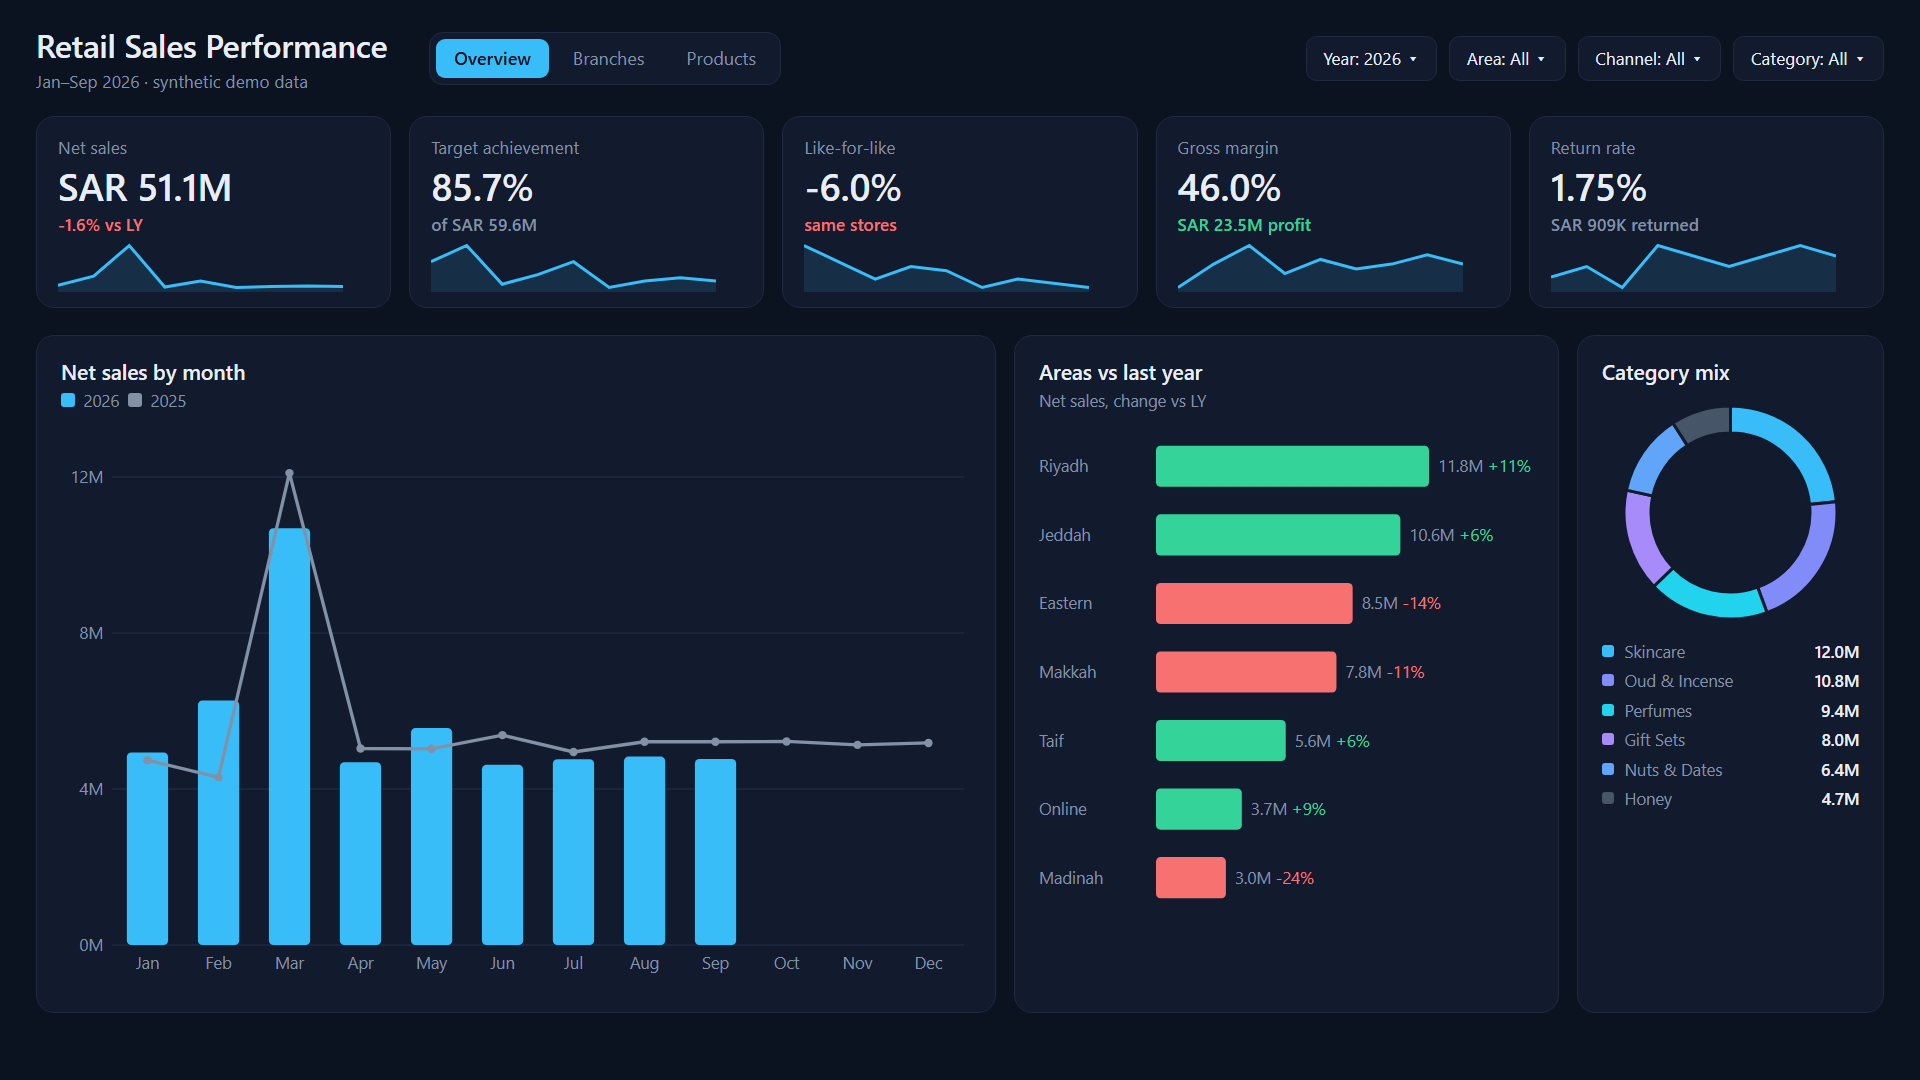

Layout of this report page (visuals, bound fields, positions):
{"tool":"powerbi","page":{"name":"Overview","canvas":[1280,720],"ordinal":0},"visuals":[{"type":"shape","box":[0,0,1280,62],"z":0},{"type":"shape","box":[24,14,34,34],"z":1},{"type":"textbox","box":[24,13,34,36],"z":2},{"type":"textbox","box":[68,8,420,50],"z":3},{"type":"pageNavigator","box":[956,12,300,40],"z":4},{"type":"shape","box":[0,62,1280,58],"z":5},{"type":"shape","box":[0,119,1280,1],"z":6},{"type":"textbox","box":[18,76,70,30],"z":7},{"type":"slicer","fields":{"Values":["Date.Year"]},"box":[92,68,150,48],"z":10},{"type":"slicer","fields":{"Values":["Date.Month"]},"box":[254,68,150,48],"z":11},{"type":"slicer","fields":{"Values":["Branch.area"]},"box":[416,68,150,48],"z":12},{"type":"slicer","fields":{"Values":["Branch.channel"]},"box":[578,68,150,48],"z":13},{"type":"slicer","fields":{"Values":["Product.category"]},"box":[740,68,150,48],"z":14},{"type":"shape","box":[24,130,236.8,120],"z":100},{"type":"cardVisual","fields":{"Data":["_Measures.Net Sales"]},"box":[32,132,224.8,116],"z":101},{"type":"shape","box":[24,138,4,104],"z":102},{"type":"shape","box":[272.8,130,236.8,120],"z":103},{"type":"cardVisual","fields":{"Data":["_Measures.Target Achievement %"]},"box":[280.8,132,224.8,116],"z":104},{"type":"shape","box":[272.8,138,4,104],"z":105},{"type":"shape","box":[521.6,130,236.8,120],"z":106},{"type":"cardVisual","fields":{"Data":["_Measures.LFL %"]},"box":[529.6,132,224.8,116],"z":107},{"type":"shape","box":[521.6,138,4,104],"z":108},{"type":"shape","box":[770.4,130,236.8,120],"z":109},{"type":"cardVisual","fields":{"Data":["_Measures.Gross Margin %"]},"box":[778.4,132,224.8,116],"z":110},{"type":"shape","box":[770.4,138,4,104],"z":111},{"type":"shape","box":[1019.2,130,236.8,120],"z":112},{"type":"cardVisual","fields":{"Data":["_Measures.Return Rate %"]},"box":[1027.2,132,224.8,116],"z":113},{"type":"shape","box":[1019.2,138,4,104],"z":114},{"type":"lineClusteredColumnComboChart","fields":{"Category":["Date.Month"],"Y":["_Measures.Net Sales"],"Y2":["_Measures.Net Sales LY"]},"box":[24,262,700,442],"z":300},{"type":"tableEx","title":"Area performance","fields":{"Values":["Branch.area","_Measures.Net Sales","_Measures.vs LY Label"]},"box":[736,262,520,229],"z":301},{"type":"tableEx","title":"Categories","fields":{"Values":["Product.category","_Measures.Net Sales","_Measures.Gross Margin %"]},"box":[736,503,520,201],"z":302}]}

Visuals, with their boxes in screenshot pixels (x1, y1, x2, y2), scaled from the page's 1280x720 canvas onto the 1920x1080 screenshot:
shape: l=0, t=0, r=1919, b=93
shape: l=36, t=21, r=87, b=72
textbox: l=36, t=20, r=87, b=74
textbox: l=102, t=12, r=732, b=87
pageNavigator: l=1434, t=18, r=1884, b=78
shape: l=0, t=93, r=1919, b=180
shape: l=0, t=178, r=1919, b=180
textbox: l=27, t=114, r=132, b=159
slicer - Date.Year: l=138, t=102, r=363, b=174
slicer - Date.Month: l=381, t=102, r=606, b=174
slicer - Branch.area: l=624, t=102, r=849, b=174
slicer - Branch.channel: l=867, t=102, r=1092, b=174
slicer - Product.category: l=1110, t=102, r=1335, b=174
shape: l=36, t=195, r=391, b=375
cardVisual - _Measures.Net Sales: l=48, t=198, r=385, b=372
shape: l=36, t=207, r=42, b=363
shape: l=409, t=195, r=764, b=375
cardVisual - _Measures.Target Achievement %: l=421, t=198, r=758, b=372
shape: l=409, t=207, r=415, b=363
shape: l=782, t=195, r=1138, b=375
cardVisual - _Measures.LFL %: l=794, t=198, r=1132, b=372
shape: l=782, t=207, r=788, b=363
shape: l=1156, t=195, r=1511, b=375
cardVisual - _Measures.Gross Margin %: l=1168, t=198, r=1505, b=372
shape: l=1156, t=207, r=1162, b=363
shape: l=1529, t=195, r=1884, b=375
cardVisual - _Measures.Return Rate %: l=1541, t=198, r=1878, b=372
shape: l=1529, t=207, r=1535, b=363
lineClusteredColumnComboChart - Date.Month x _Measures.Net Sales: l=36, t=393, r=1086, b=1056
"Area performance" tableEx: l=1104, t=393, r=1884, b=736
"Categories" tableEx: l=1104, t=754, r=1884, b=1056
